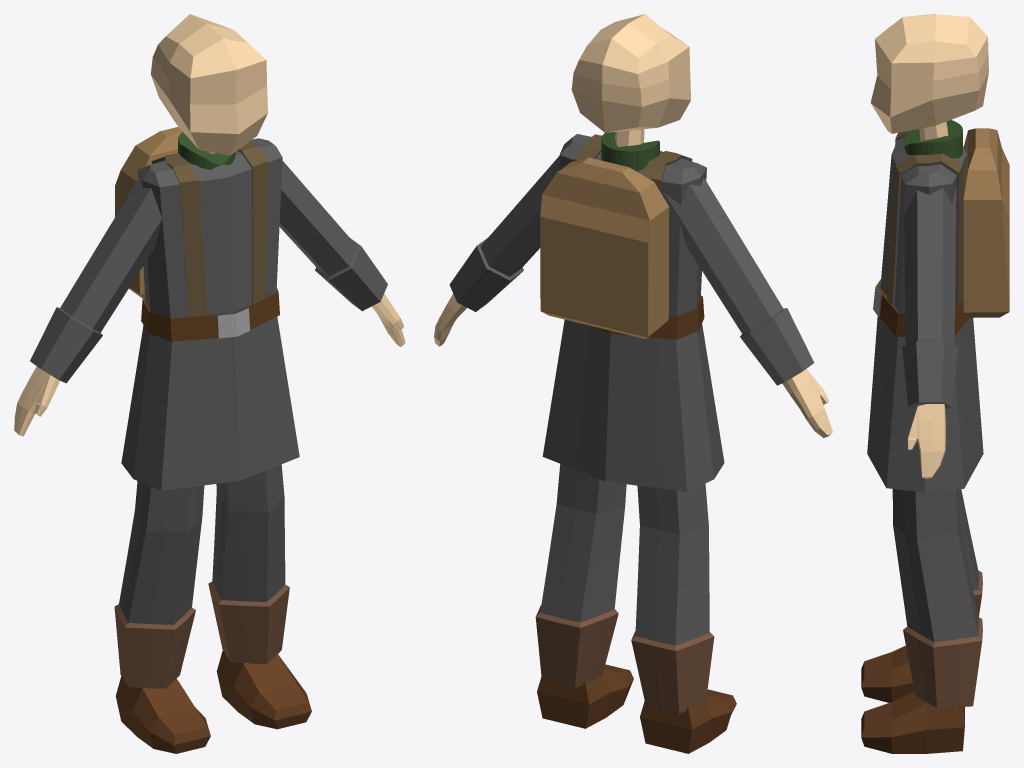
The model's file is Svenny.fbx.
The picture shows the model from 3 angles, left to right: view 1: azimuth 30°, elevation 25°; view 2: azimuth 150°, elevation 25°; view 3: azimuth 270°, elevation 25°; orthographic projection.
Visible parts, largest first — view 1: Body, Legs, Arm, Head, Feet, Backpack, Right Hand, Cylinder.001, Left Hand; view 2: Body, Legs, Backpack, Arm, Head, Feet, Right Hand, Cylinder.001, Left Hand; view 3: Body, Legs, Head, Arm, Backpack, Feet, Left Hand, Cylinder.001.
Part boxes in pixels (<box>): Body: <box>121,138,299,490</box>; Legs: <box>114,464,289,688</box>; Arm: <box>30,160,387,383</box>; Head: <box>150,14,267,155</box>; Feet: <box>115,650,311,753</box>; Backpack: <box>115,127,182,299</box>; Right Hand: <box>14,366,59,436</box>; Cylinder.001: <box>178,132,235,169</box>; Left Hand: <box>371,293,405,346</box>; Body: <box>542,134,724,491</box>; Legs: <box>535,464,714,713</box>; Backpack: <box>540,157,669,338</box>; Arm: <box>449,156,814,385</box>; Head: <box>571,14,690,146</box>; Feet: <box>537,664,736,753</box>; Right Hand: <box>782,369,832,438</box>; Cylinder.001: <box>601,132,659,171</box>; Left Hand: <box>434,294,466,346</box>; Body: <box>867,131,983,492</box>; Legs: <box>892,489,982,708</box>; Head: <box>870,14,988,141</box>; Arm: <box>902,186,957,408</box>; Backpack: <box>963,128,1009,317</box>; Feet: <box>861,645,964,753</box>; Left Hand: <box>907,404,945,478</box>; Cylinder.001: <box>904,120,962,158</box>.
Bounding box in the file's own units: 239 × 409 × 78.27.
